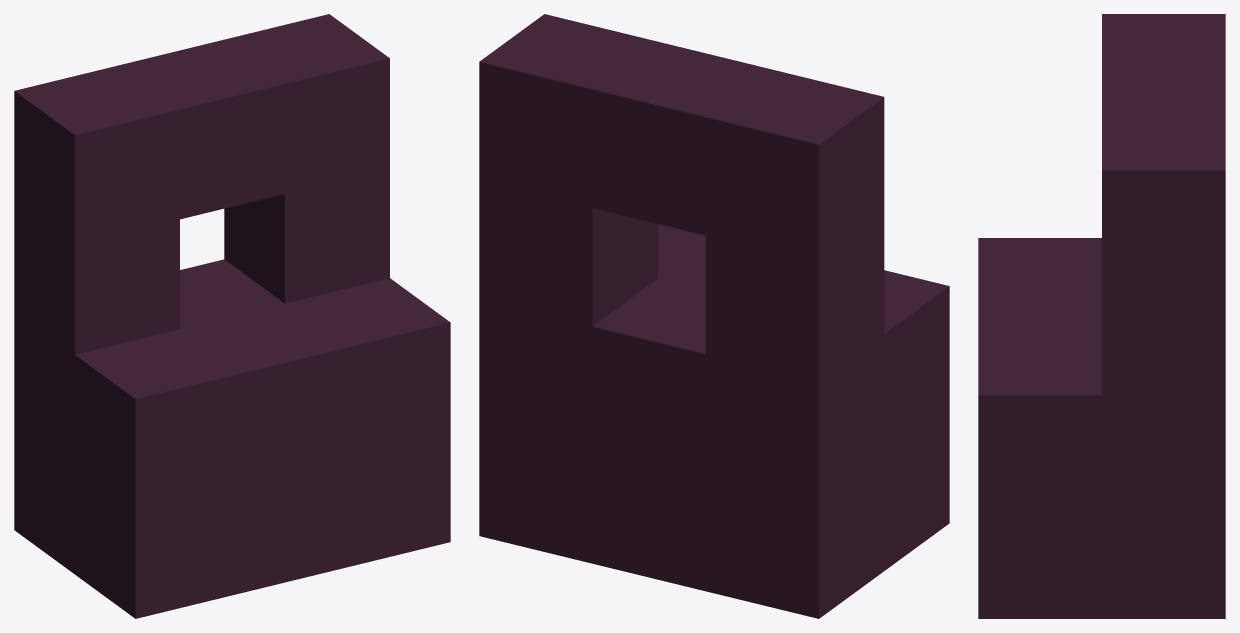
Rendered from treasure_chest_e_lock.obj.
3 renders of one model, left to right at view 1: azimuth 30°, elevation 25°; view 2: azimuth 150°, elevation 25°; view 3: azimuth 270°, elevation 25°, orthographic. The views are drawn at different scales.
Bounding box in the file's own units: 0.3 × 0.4 × 0.2.
Materials: 1 (1 with a texture image).
